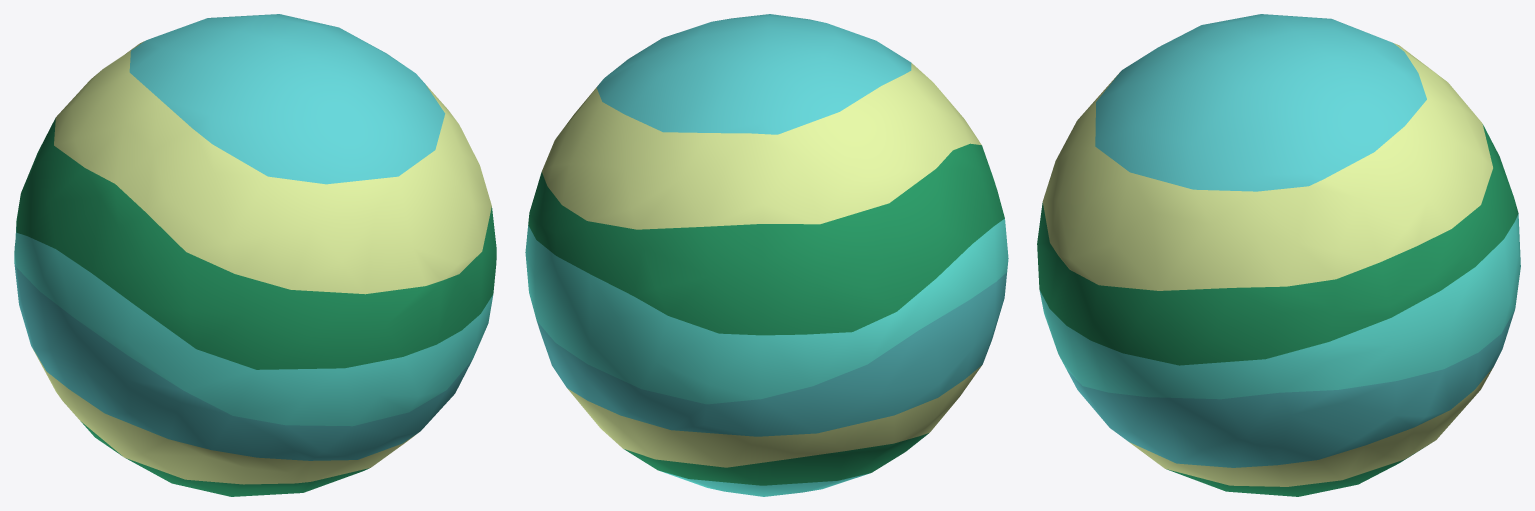
Rendered from uranus.glb.
3 views of the same model, side by side, from view 1: azimuth 30°, elevation 25°; view 2: azimuth 150°, elevation 25°; view 3: azimuth 270°, elevation 25° (orthographic).
Parts seen in each view (by area): view 1: Uranus; view 2: Uranus; view 3: Uranus.
Boxes of the visible parts, x1,y1,x2,y2 form: Uranus: (14, 14, 496, 496); Uranus: (525, 14, 1008, 496); Uranus: (1037, 14, 1520, 496).
Bounding box in the file's own units: 0.1693 × 0.1691 × 0.1689.
1 material, 1 textured.
